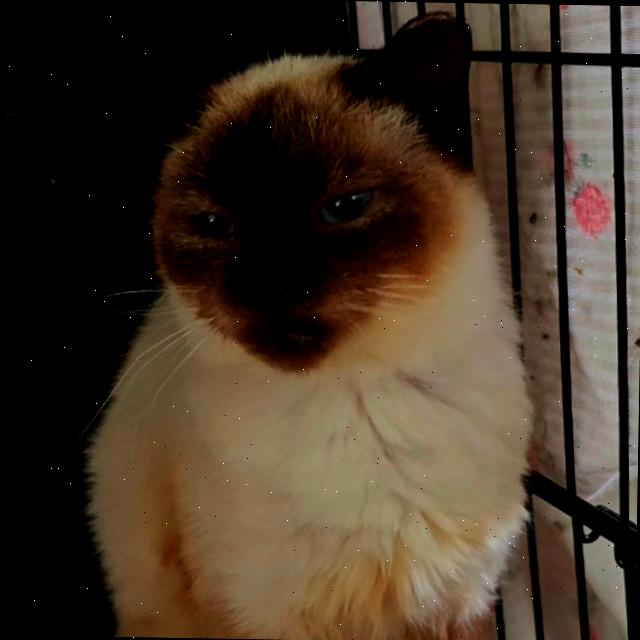siamese_cat: (58, 1, 546, 420)
